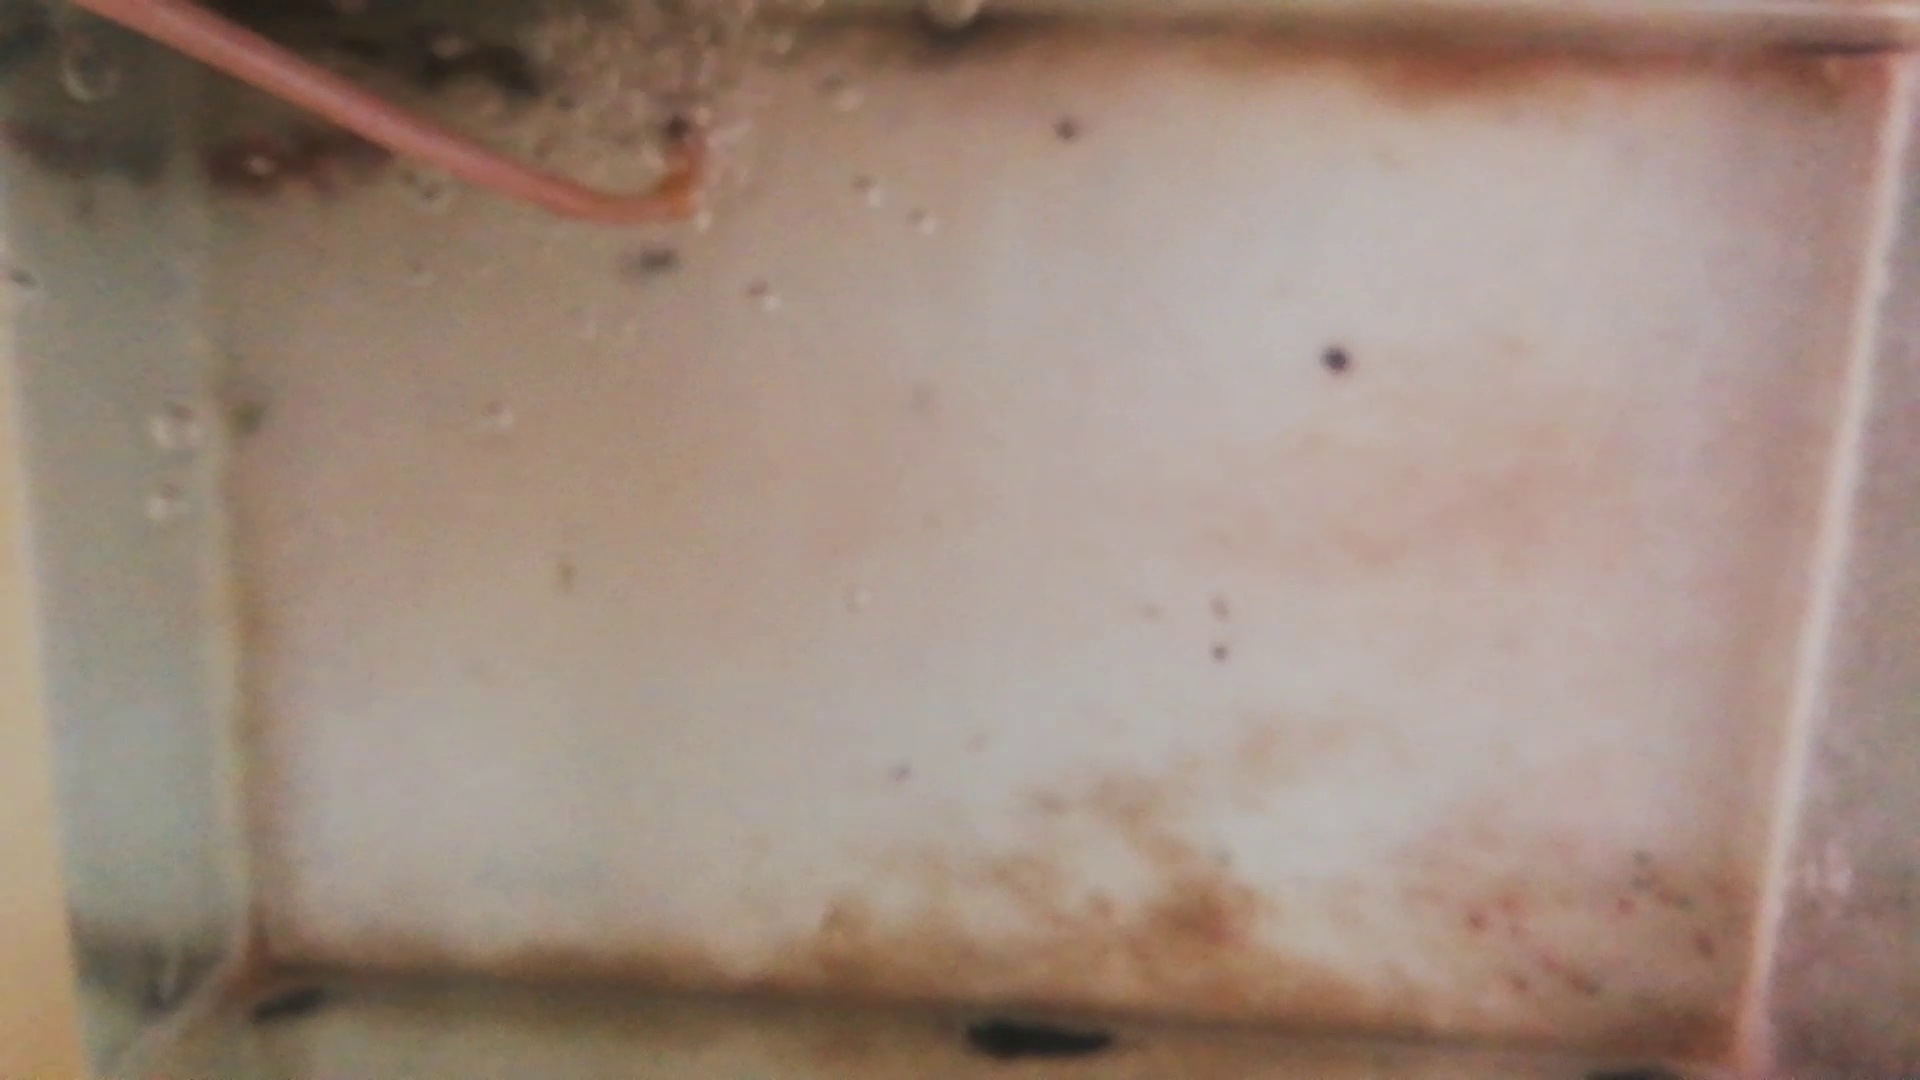fish: (369, 41, 550, 107), (199, 142, 401, 191)
